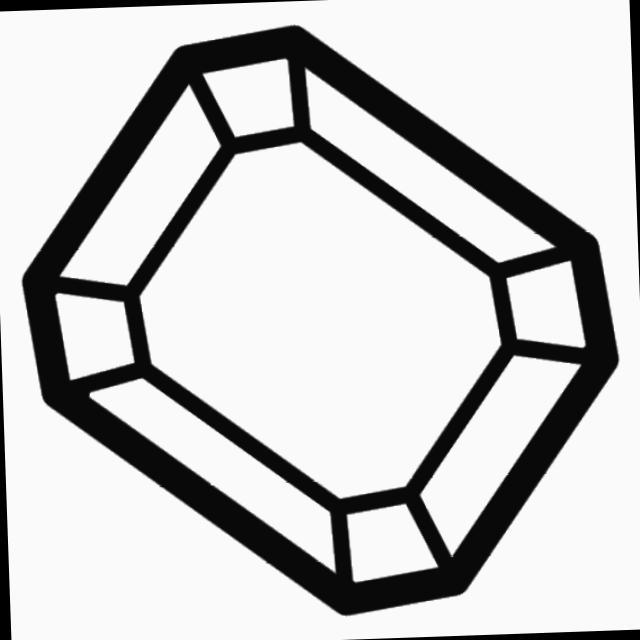emerald: (5, 4, 636, 639)
